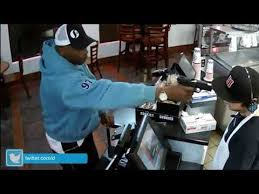gun: (176, 75, 217, 107)
